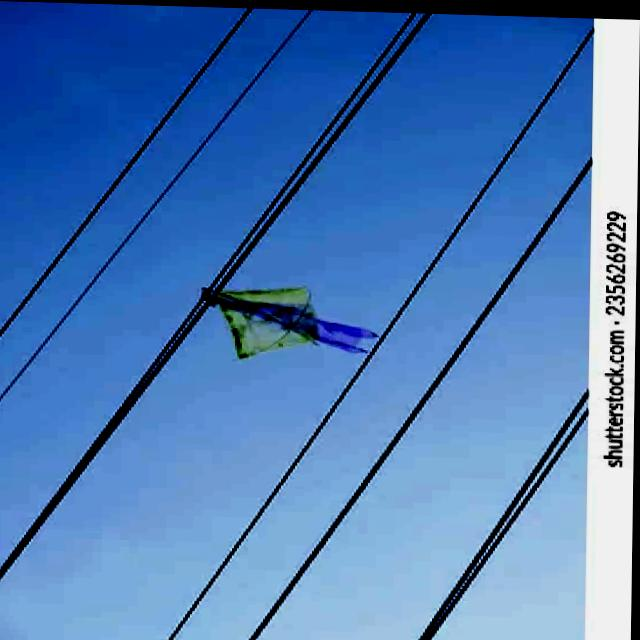obstruction: (202, 287, 378, 355)
wires: (167, 24, 592, 640), (248, 155, 590, 640), (0, 9, 313, 401), (0, 7, 251, 338), (207, 12, 432, 294), (0, 295, 207, 580), (416, 386, 588, 640)
